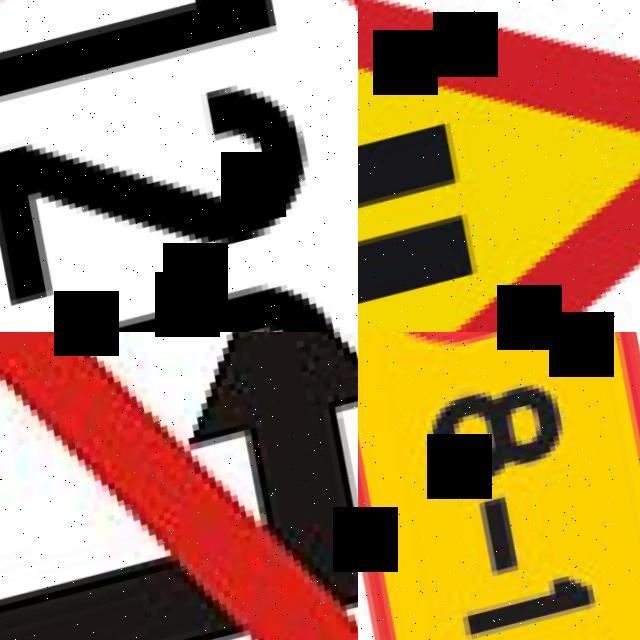131: (358, 0, 640, 332)
181: (358, 332, 640, 640)
No Left turn: (0, 332, 358, 640)
speed-limit-120: (0, 0, 358, 332)
